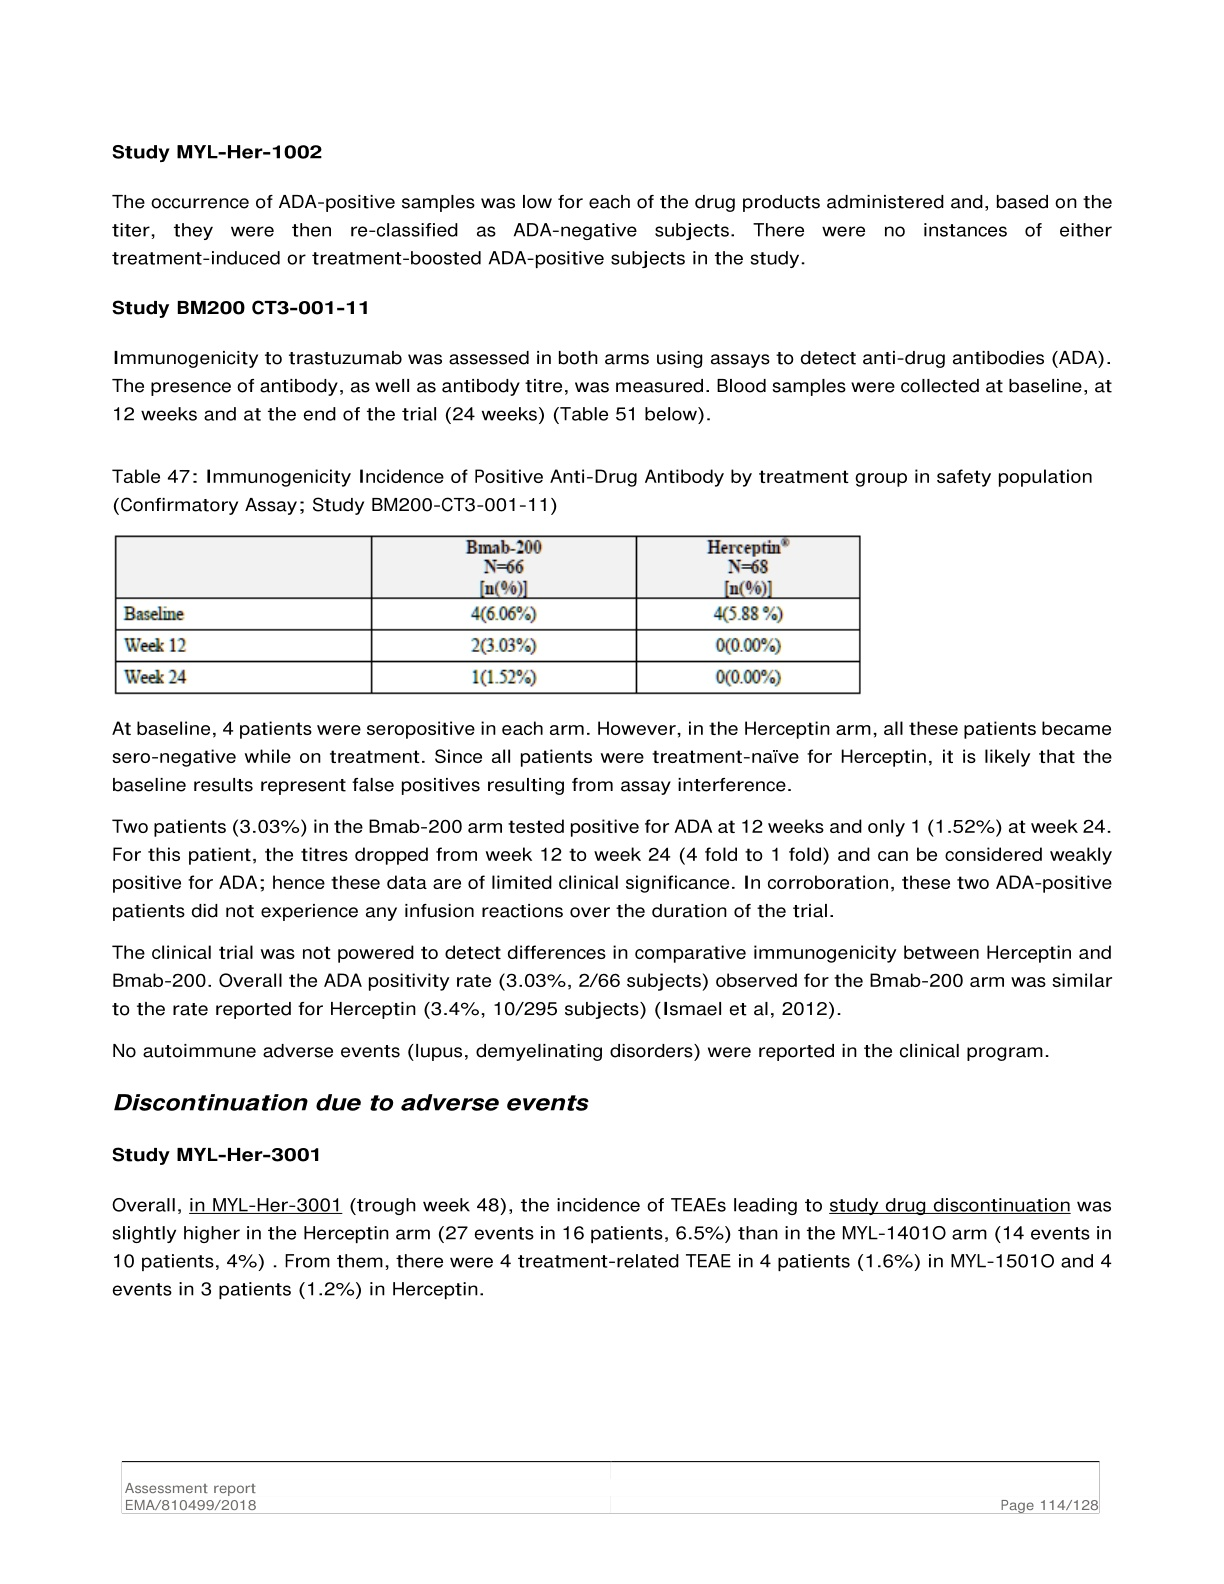full_lined: (114, 534, 861, 696)
